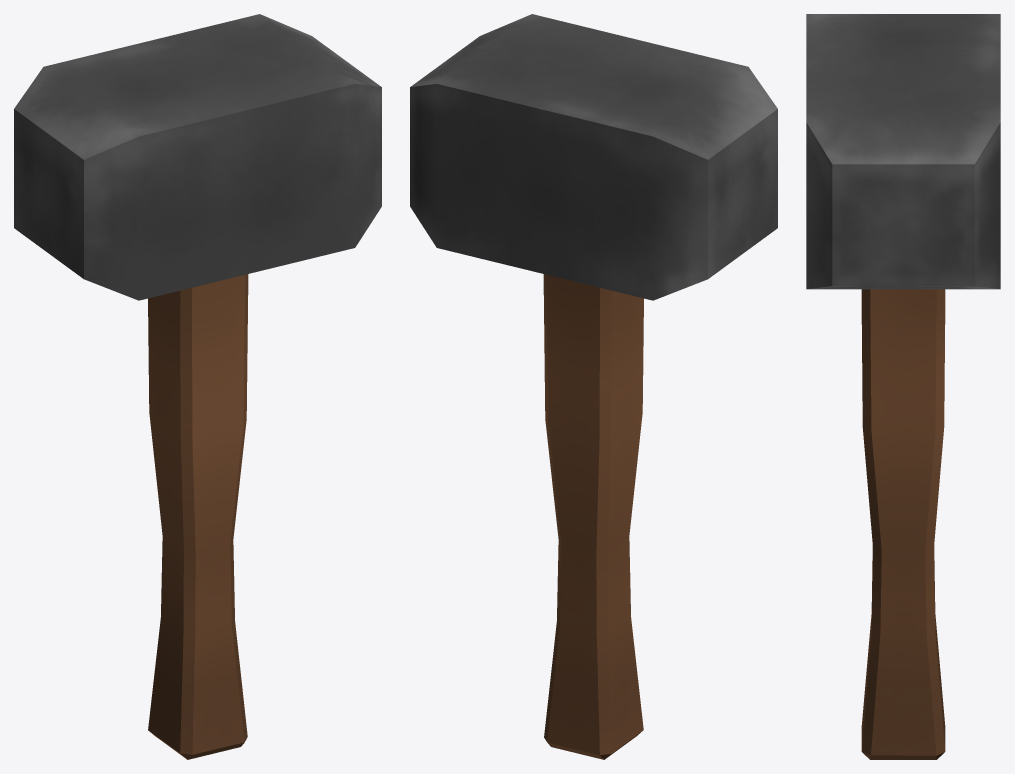
File: hammer_mesh.fbx
3 views of the same model, side by side, from view 1: azimuth 30°, elevation 25°; view 2: azimuth 150°, elevation 25°; view 3: azimuth 270°, elevation 25° (orthographic). The views are drawn at different scales.
Visible parts, largest first — view 1: hammer; view 2: hammer; view 3: hammer.
Boxes of the visible parts, x1,y1,x2,y2 form: hammer: (14,14,381,759); hammer: (410,14,777,759); hammer: (806,14,1000,759).
Size of the model in its own units: 30.16 by 64.39 by 16.72.
